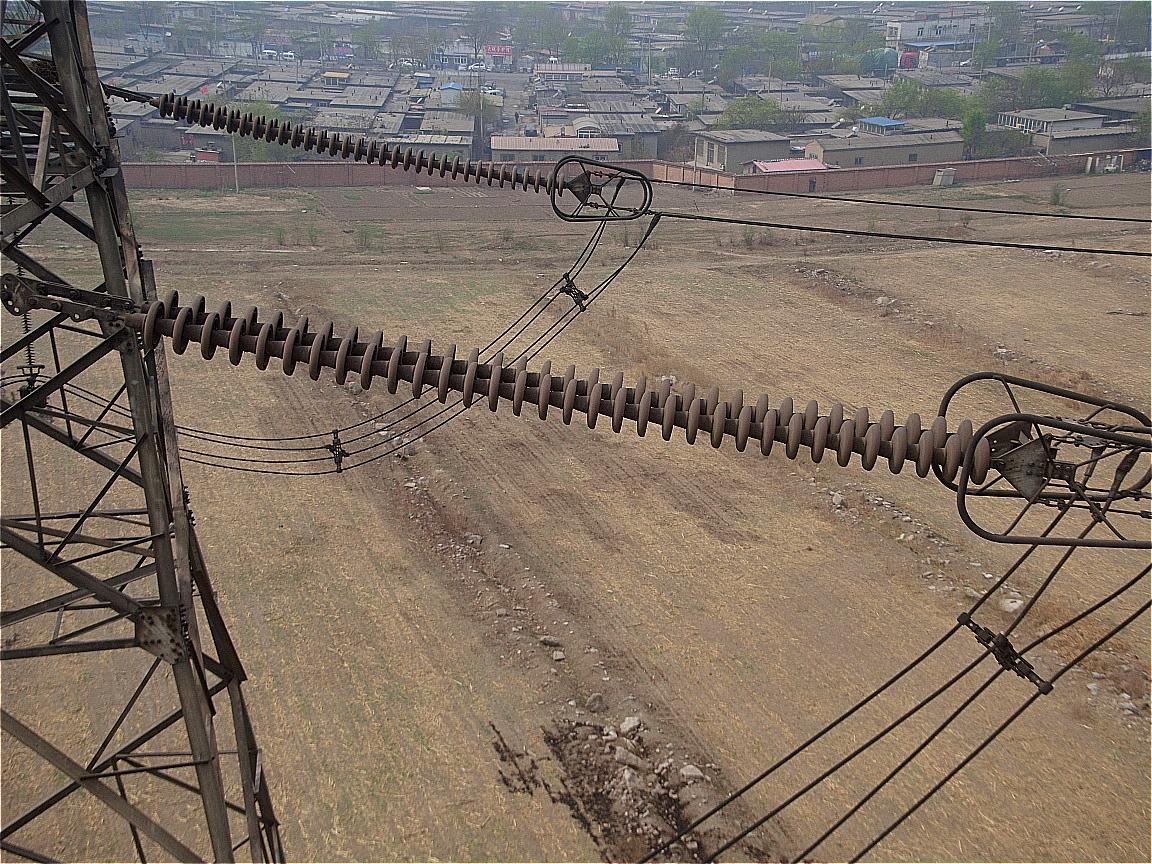insultor1: (118, 267, 1014, 494), (143, 78, 575, 202)
